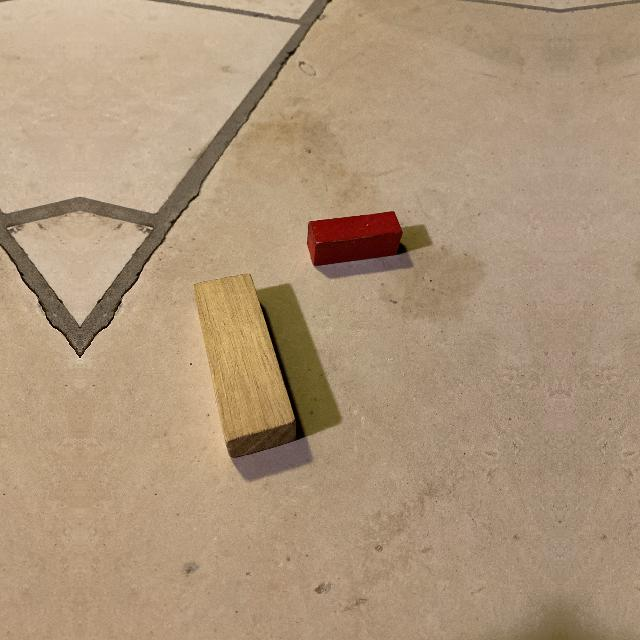jenga: (192, 271, 297, 460)
red block: (306, 211, 403, 266)
